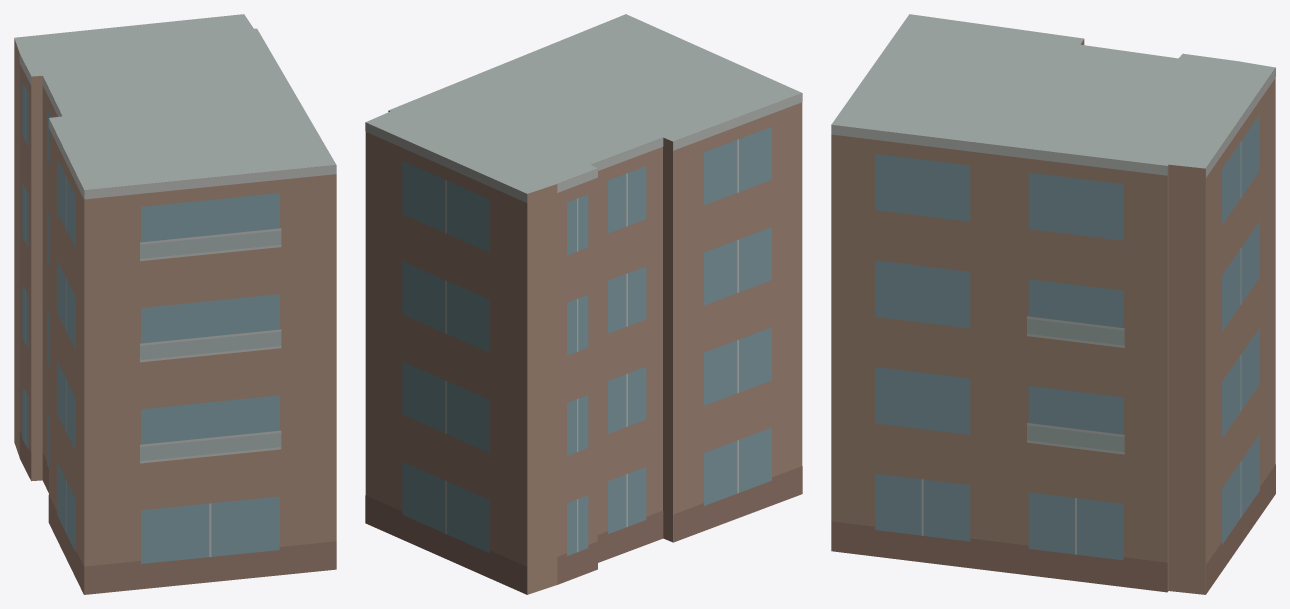
File: survey-upis-32842001.glb
3 renders of one model, left to right at view 1: azimuth 30°, elevation 25°; view 2: azimuth 150°, elevation 25°; view 3: azimuth 270°, elevation 25°, orthographic. The views are drawn at different scales.
Visible parts, largest first — view 1: survey-upis-32842001.tmp; view 2: survey-upis-32842001.tmp; view 3: survey-upis-32842001.tmp.
Part boxes in pixels (bbox=[...]): survey-upis-32842001.tmp: bbox=[14, 14, 336, 594]; survey-upis-32842001.tmp: bbox=[365, 14, 802, 594]; survey-upis-32842001.tmp: bbox=[831, 14, 1275, 594].
Size of the model in its own units: 8.28 by 10.65 by 10.07.
